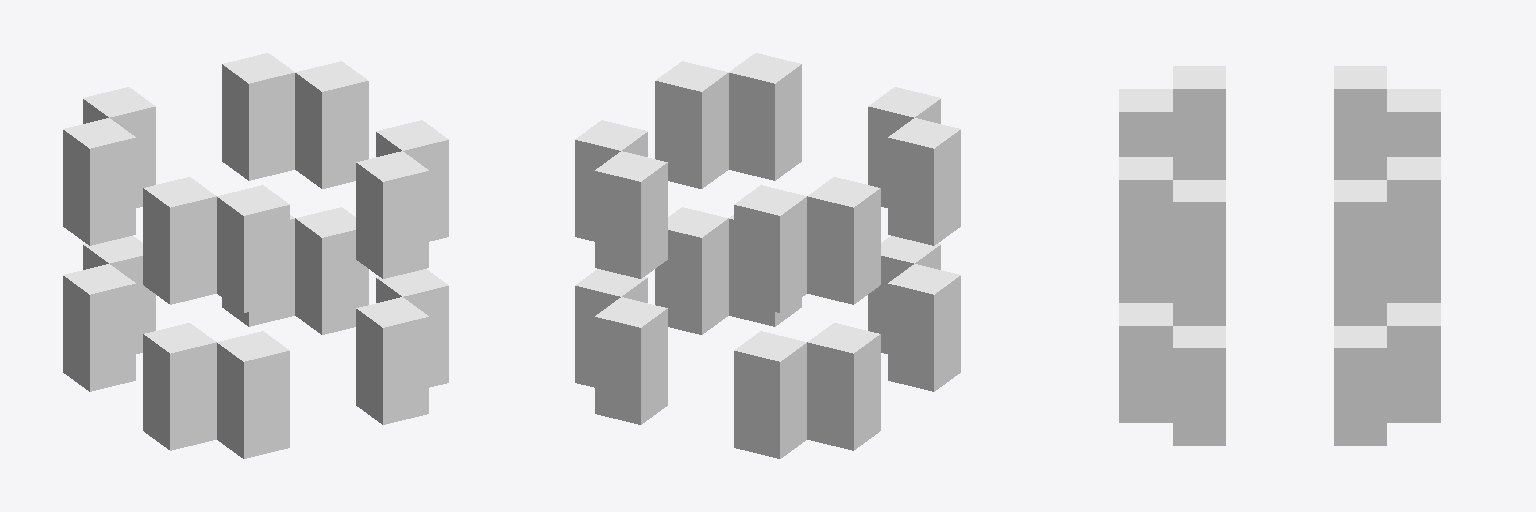
Rendered from lamp-1.obj.
The picture shows the model from 3 angles: view 1: azimuth 30°, elevation 25°; view 2: azimuth 150°, elevation 25°; view 3: azimuth 270°, elevation 25°; orthographic projection.
Visible parts, largest first — view 1: lamp-1; view 2: lamp-1; view 3: lamp-1.
Part boxes in pixels (x1,y1,x2,y2): lamp-1: (63, 53, 448, 458); lamp-1: (575, 53, 960, 458); lamp-1: (1119, 66, 1440, 445).
Size of the model in its own units: 6 by 5 by 6.